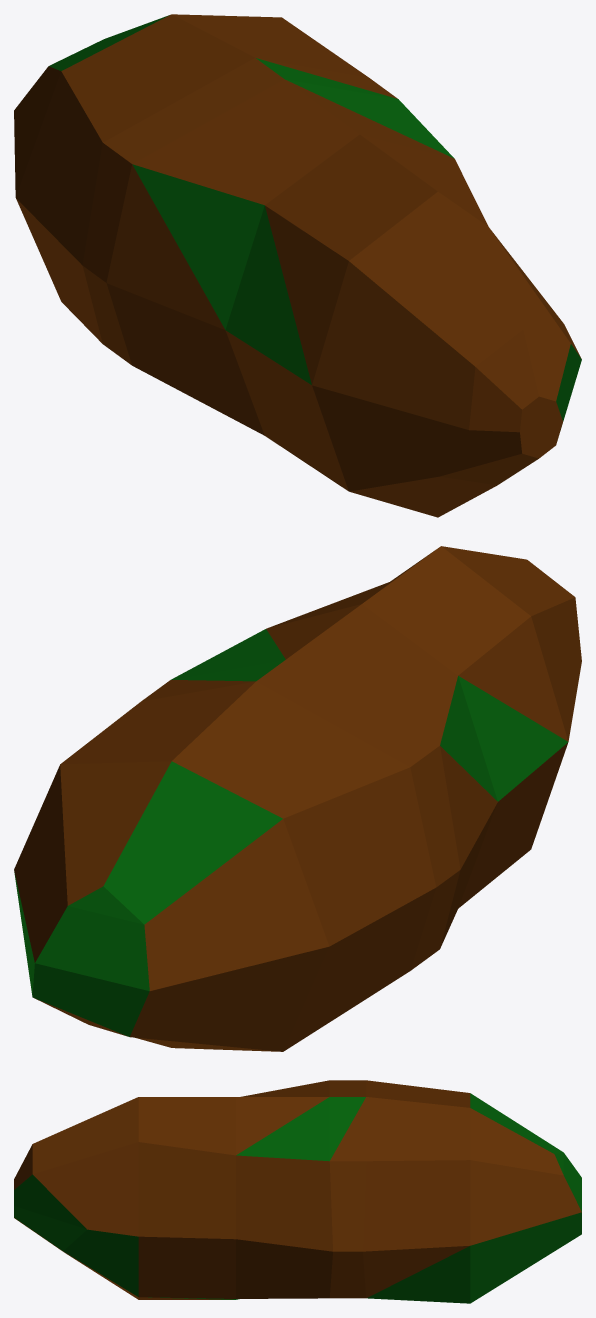
Rendered from pistachio02.gltf.
3 views of the same model, one above another, from view 1: azimuth 30°, elevation 25°; view 2: azimuth 150°, elevation 25°; view 3: azimuth 270°, elevation 25° (orthographic). The views are drawn at different scales.
Visible parts, largest first — view 1: Cylinder; view 2: Cylinder; view 3: Cylinder.
Part boxes in pixels (box(x1,y1,x2,y2)): Cylinder: box(14, 14, 581, 517); Cylinder: box(14, 546, 581, 1051); Cylinder: box(14, 1080, 581, 1303).
Bounding box in the file's own units: 0.00905 × 0.00804 × 0.0204.
Materials: 1 (1 with a texture image).
